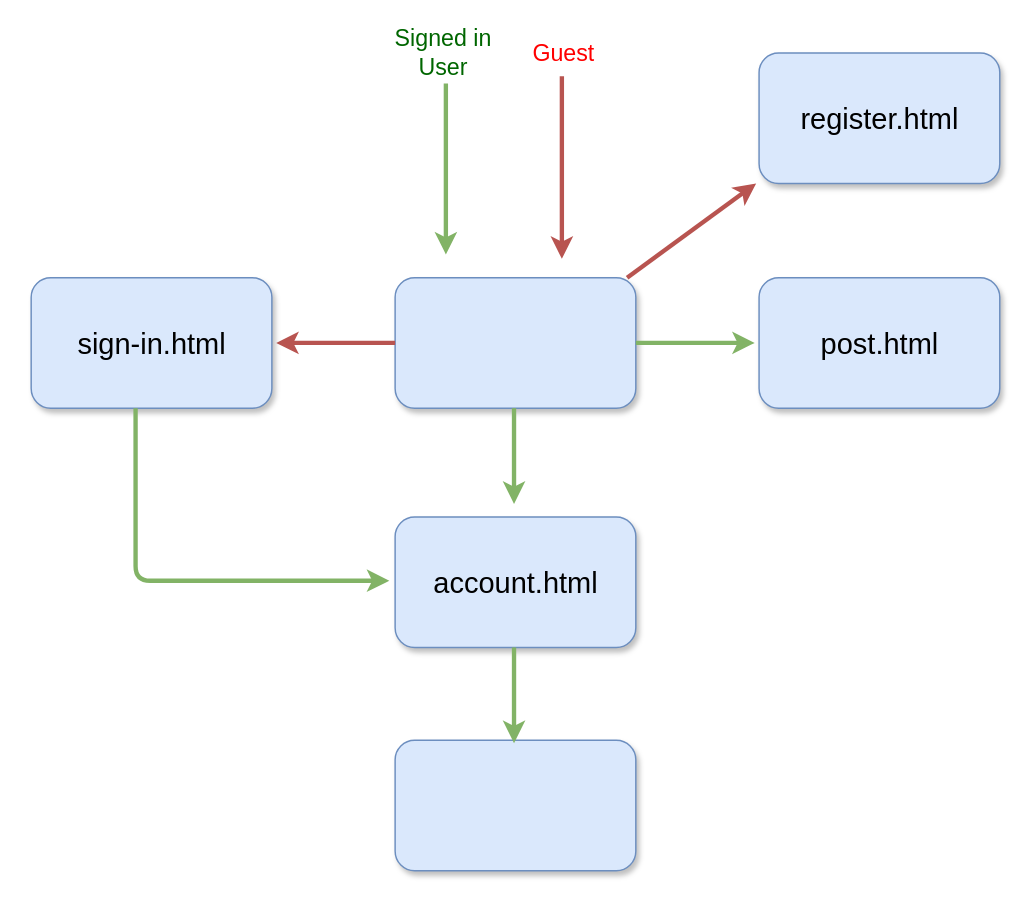
Image size: 1034x906. Some labels were removed from this diagram. Here are the shapes that lost their labels. From the top down, the centre of each, then its label:
(x=516, y=344): index.html
(x=516, y=807): my-ads.html
